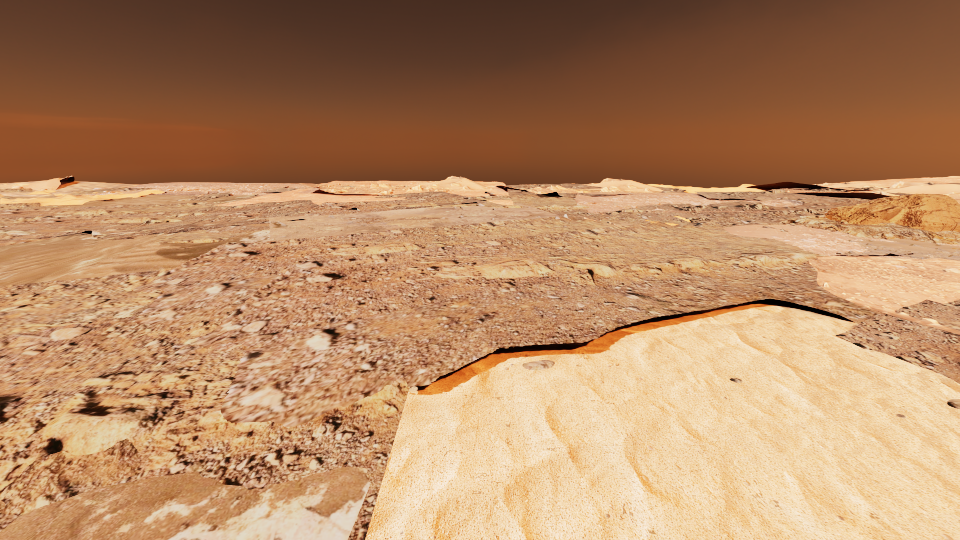bedrock: (0, 362, 409, 495), (0, 191, 597, 244), (578, 189, 959, 260), (413, 232, 817, 285), (835, 314, 959, 383), (137, 184, 304, 200), (316, 240, 478, 256), (895, 299, 959, 330), (152, 232, 246, 242), (507, 189, 576, 199), (524, 225, 586, 235), (505, 183, 602, 189), (0, 326, 49, 337), (522, 360, 554, 370), (656, 187, 685, 192), (947, 399, 959, 409), (811, 188, 847, 191), (103, 191, 124, 194), (845, 187, 874, 189), (0, 196, 27, 198), (729, 378, 742, 382), (7, 232, 28, 234)
rocks: (824, 194, 959, 231)
sand: (365, 299, 959, 539), (0, 467, 370, 539), (0, 230, 270, 285), (0, 181, 405, 207), (46, 304, 149, 324), (846, 176, 959, 185), (647, 184, 770, 192), (447, 181, 508, 196), (322, 181, 432, 186), (0, 229, 35, 235), (392, 189, 420, 194), (488, 200, 513, 204), (575, 189, 599, 192)
soil: (0, 189, 959, 426), (224, 456, 389, 539), (0, 438, 142, 530), (0, 202, 229, 238), (69, 182, 305, 195), (302, 197, 466, 215), (746, 184, 873, 199), (167, 223, 269, 237), (310, 183, 413, 194), (341, 217, 441, 223), (149, 191, 216, 195), (92, 227, 140, 231), (224, 212, 261, 217), (0, 187, 33, 191), (0, 240, 21, 246), (840, 188, 881, 191), (898, 182, 922, 187), (450, 186, 470, 190)
